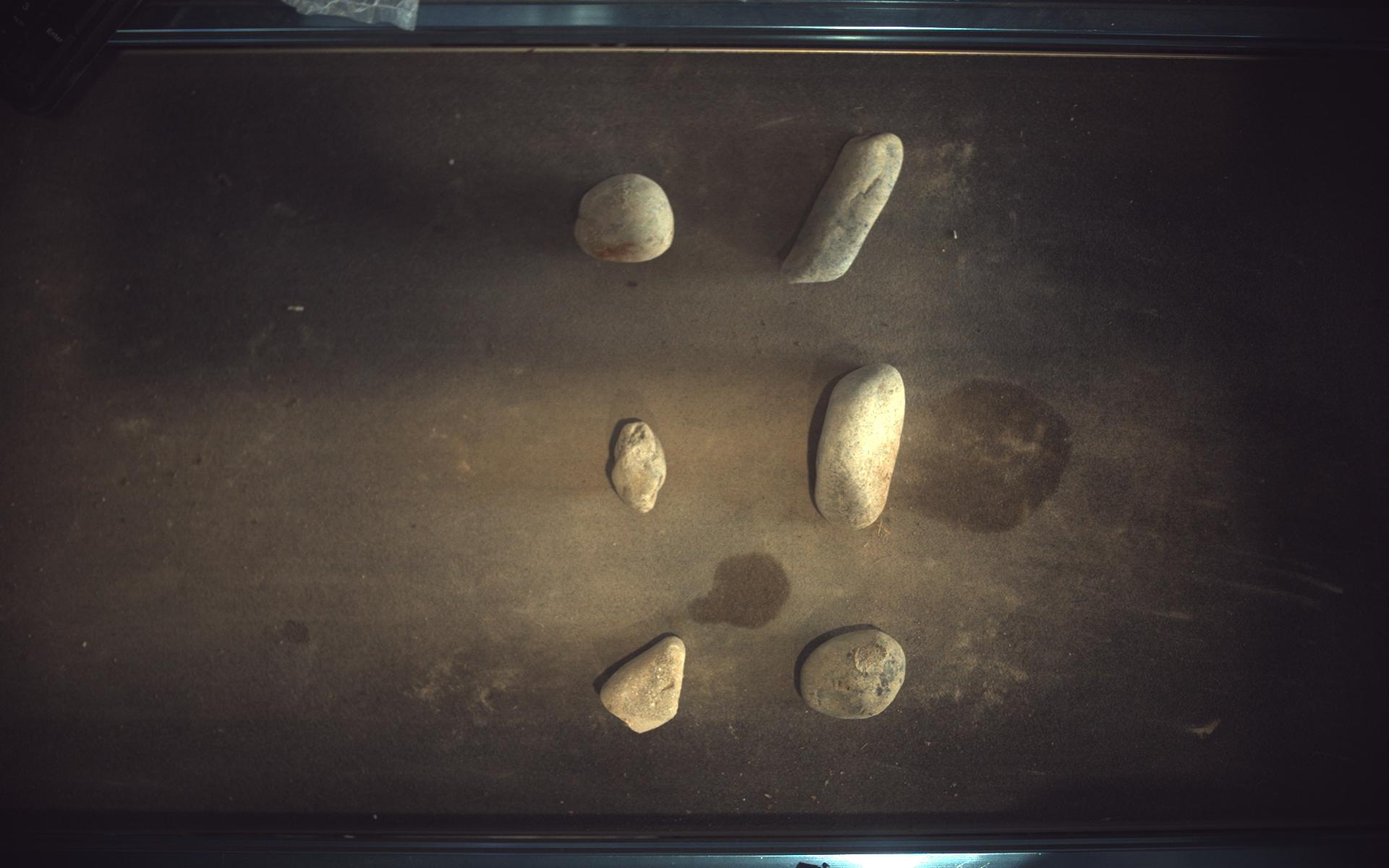stone: (783, 132, 905, 283), (816, 364, 906, 529), (802, 629, 907, 720), (574, 172, 675, 263), (601, 637, 687, 734), (606, 418, 668, 514)
